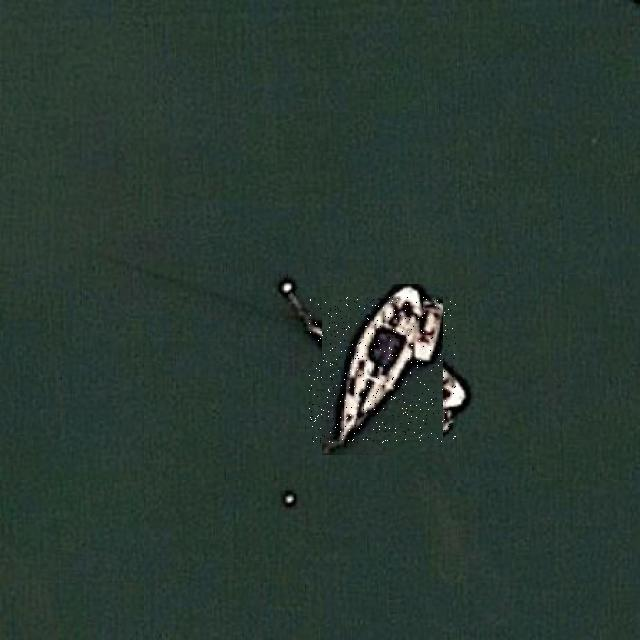boat: (309, 296, 456, 443)
